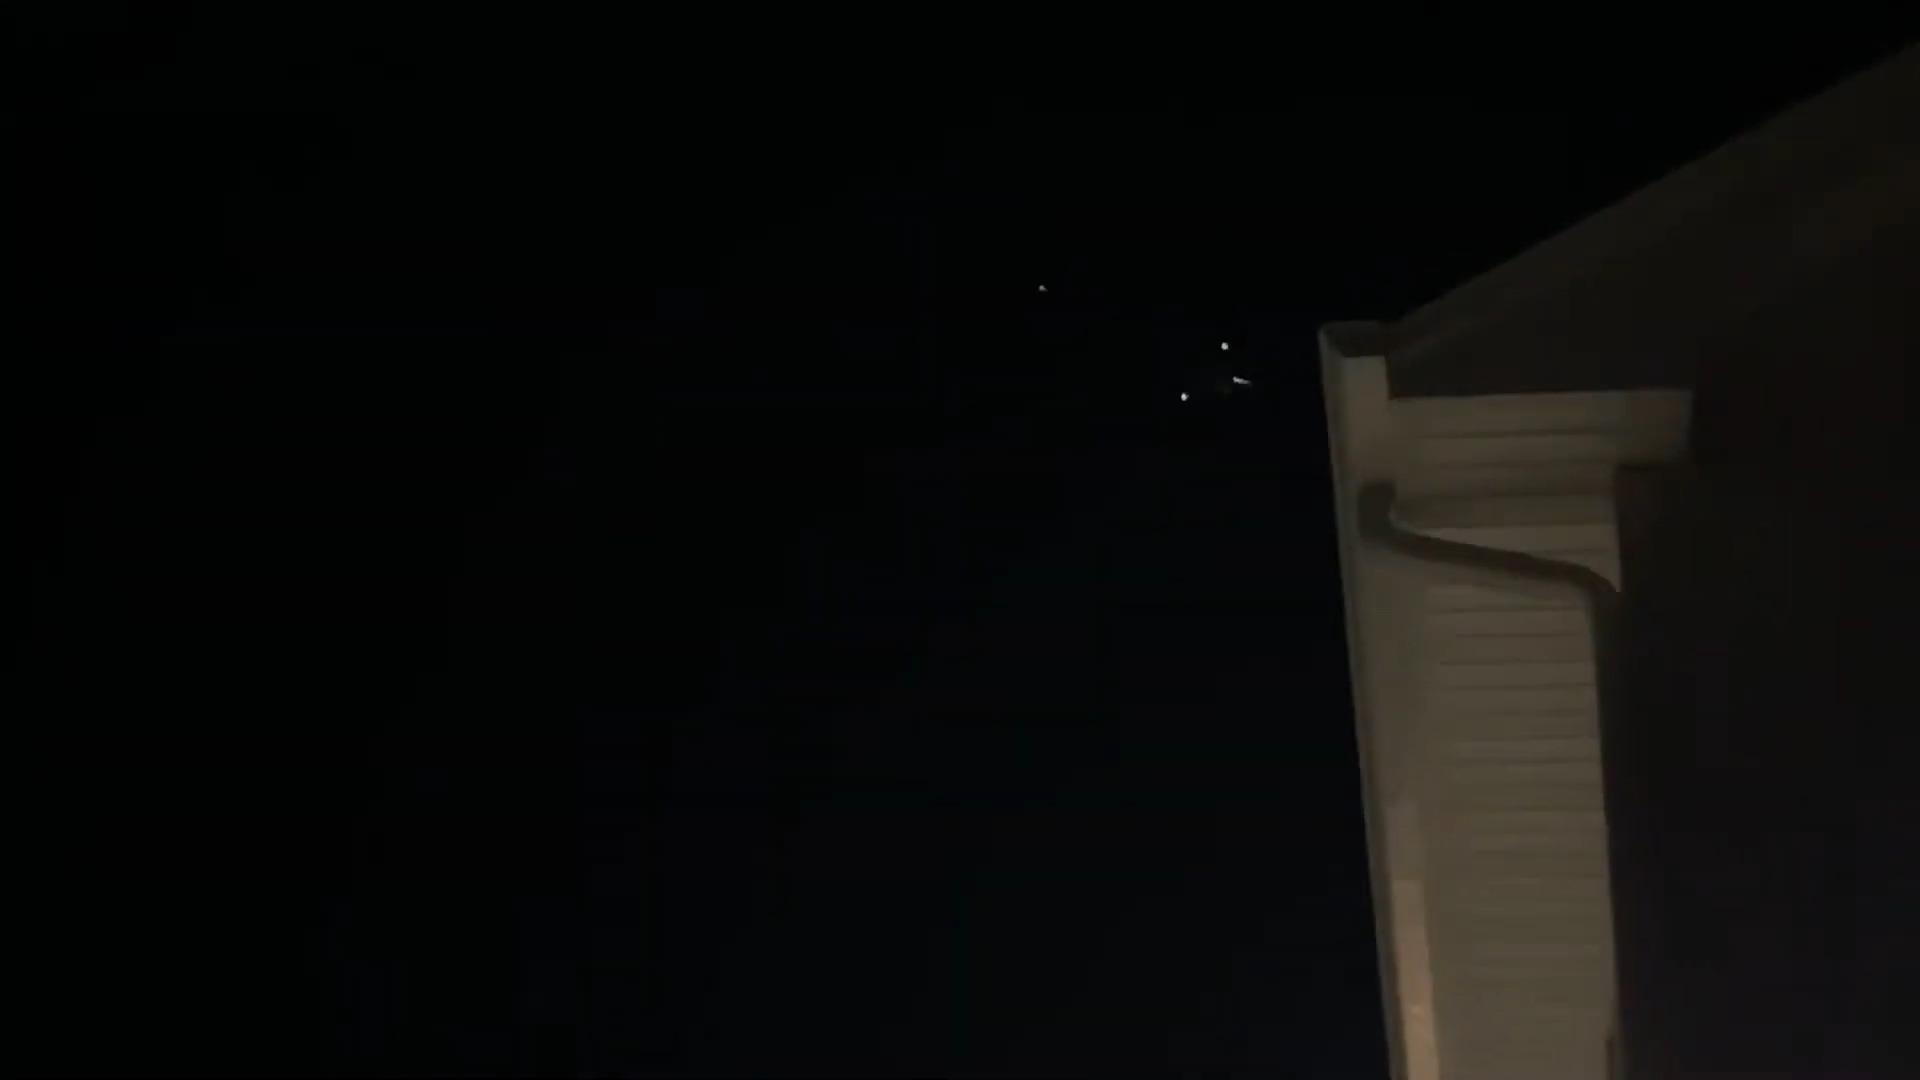Plane: (1122, 316, 1324, 426)
